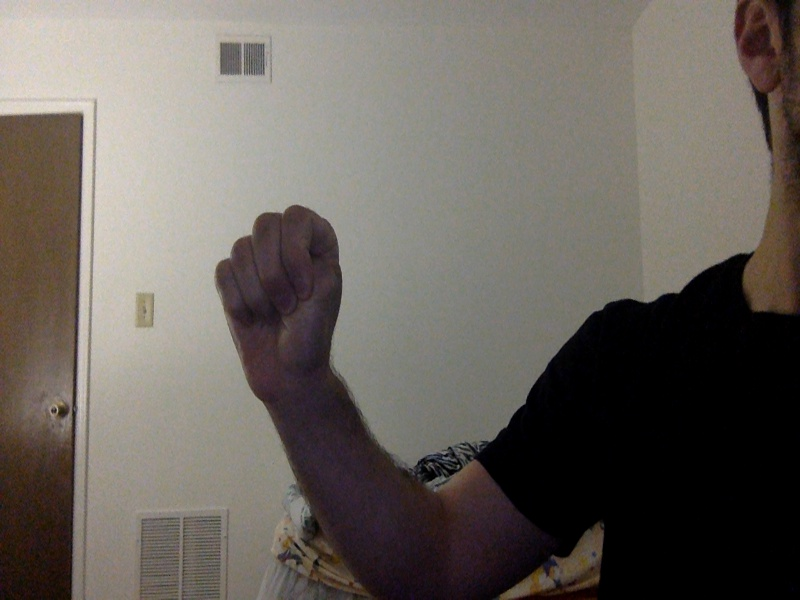0-hand: (210, 204, 341, 403)
